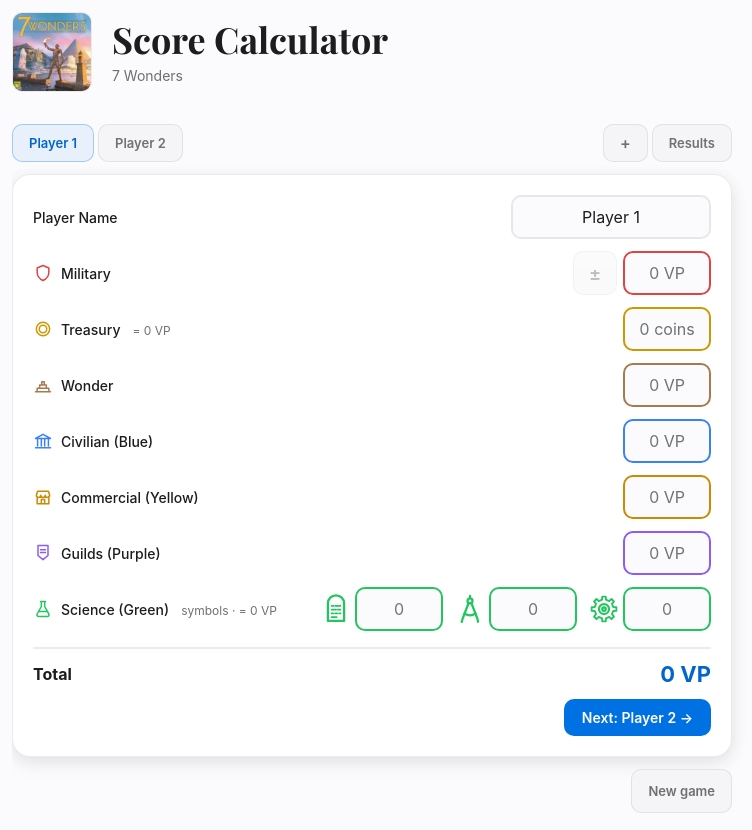
Test: ScoreCalculatorPage › computes science VP using the sets-plus-squares formula
This screenshot has width=752, height=830.
Type "2" into the number field named "tablets" at (399, 609), box [355,587,443,631]
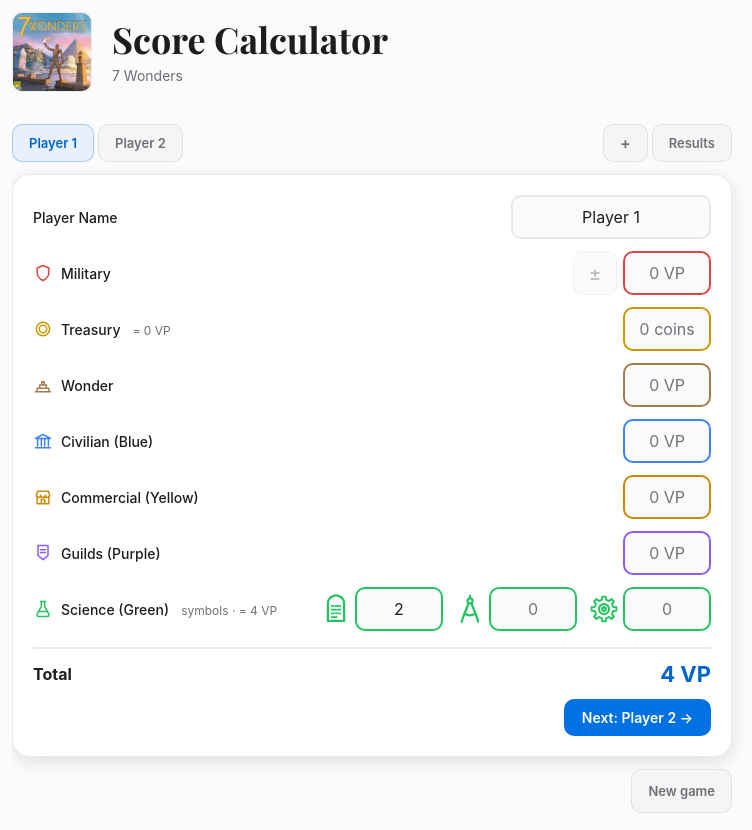
Type "2" into the number field named "compasses" at (533, 609), box [489,587,577,631]
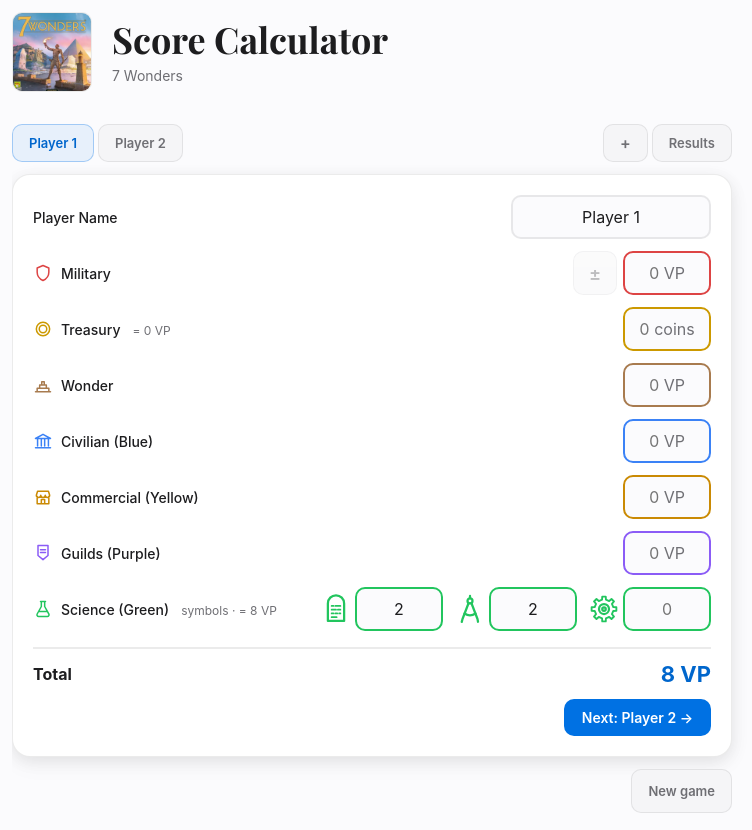
Type "2" into the number field named "gears" at (667, 609), box [623,587,711,631]
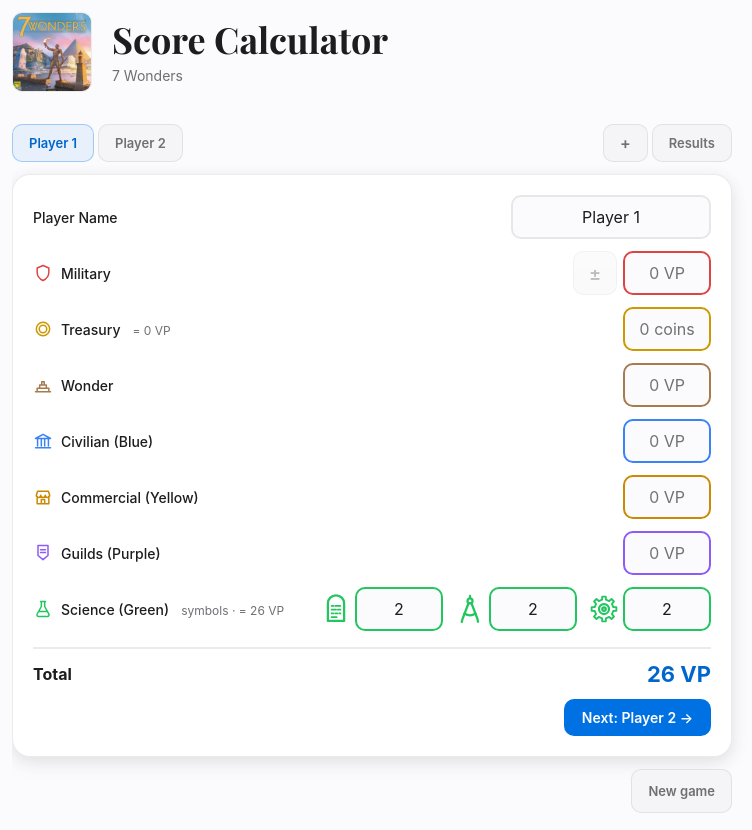
Expected: the text "= 26 VP" is shown, [239,602,292,618]
Expected: the text "26 VP" is shown, [647,661,711,687]
